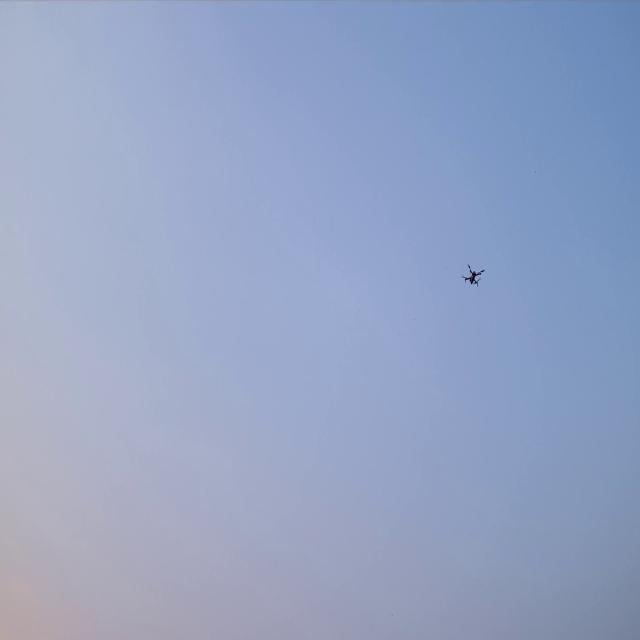UAV: (461, 262, 486, 286)
